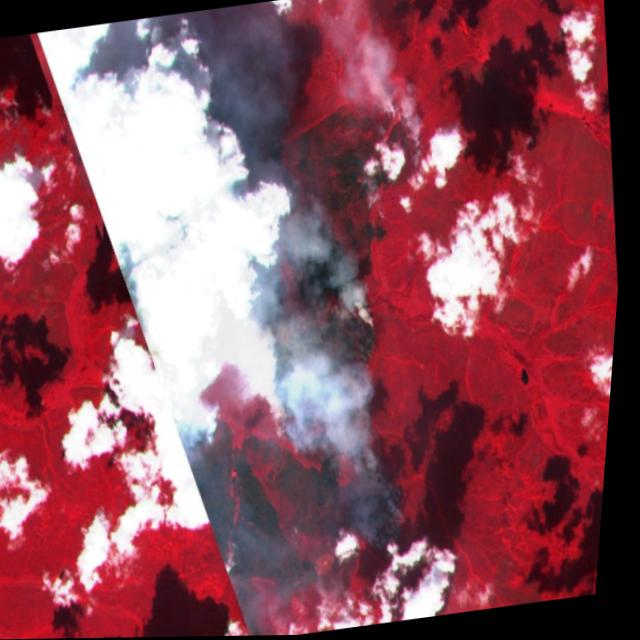fire: (228, 283, 441, 573), (354, 84, 440, 193), (216, 40, 306, 143)
